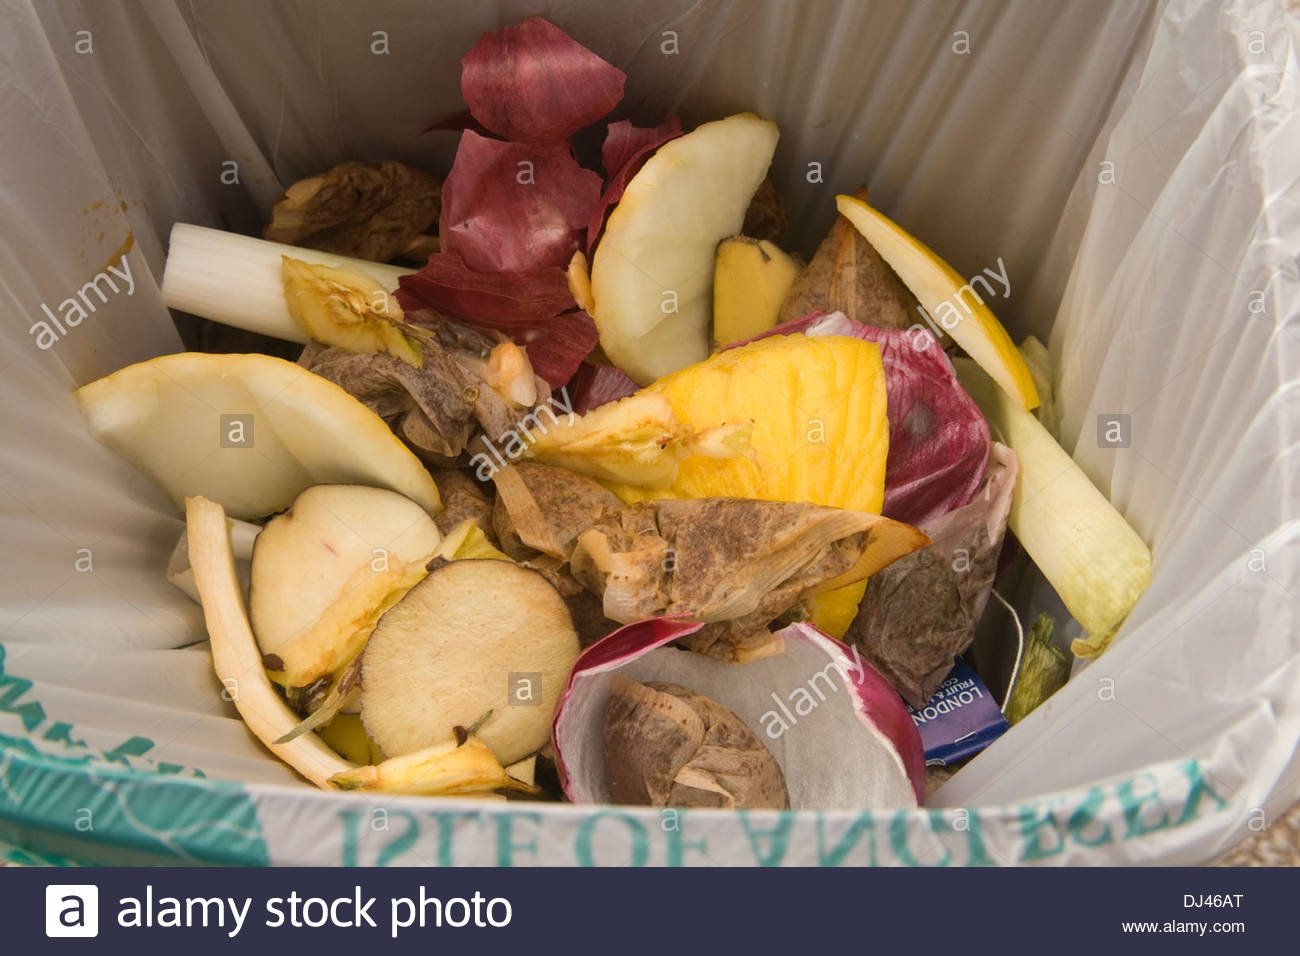kitchen_waste: (164, 488, 504, 803), (510, 324, 915, 544), (399, 19, 611, 384), (58, 329, 451, 524), (568, 105, 798, 404), (827, 177, 1059, 432), (218, 457, 462, 664), (369, 555, 592, 772), (591, 659, 806, 815)
